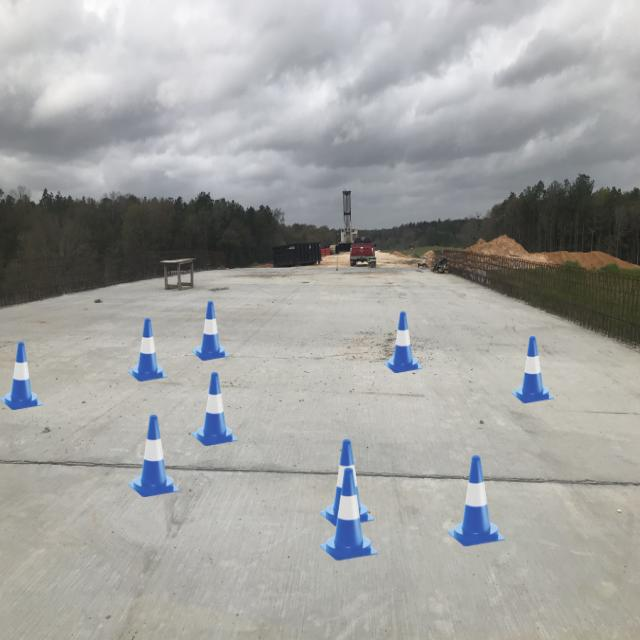blue_cone: (320, 468, 378, 560), (448, 456, 505, 546), (320, 439, 374, 526), (128, 415, 180, 497), (192, 372, 238, 446), (0, 342, 43, 410), (511, 336, 554, 403), (128, 318, 168, 382), (383, 311, 422, 373), (192, 301, 229, 361)
